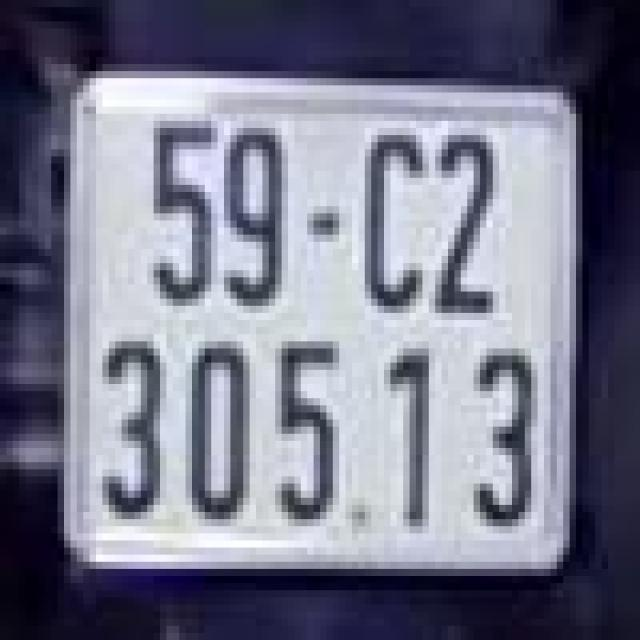0: (179, 327, 250, 526)
1: (378, 323, 442, 537)
2: (432, 125, 509, 316)
3: (102, 320, 180, 540), (467, 320, 538, 533)
5: (138, 100, 227, 320), (266, 323, 342, 522)
9: (218, 107, 300, 320)
C: (349, 114, 432, 327)
